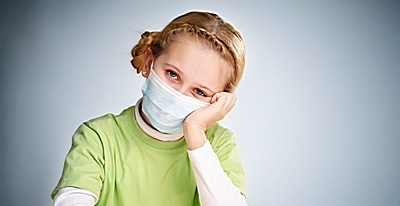face_mask: (143, 43, 230, 133)
